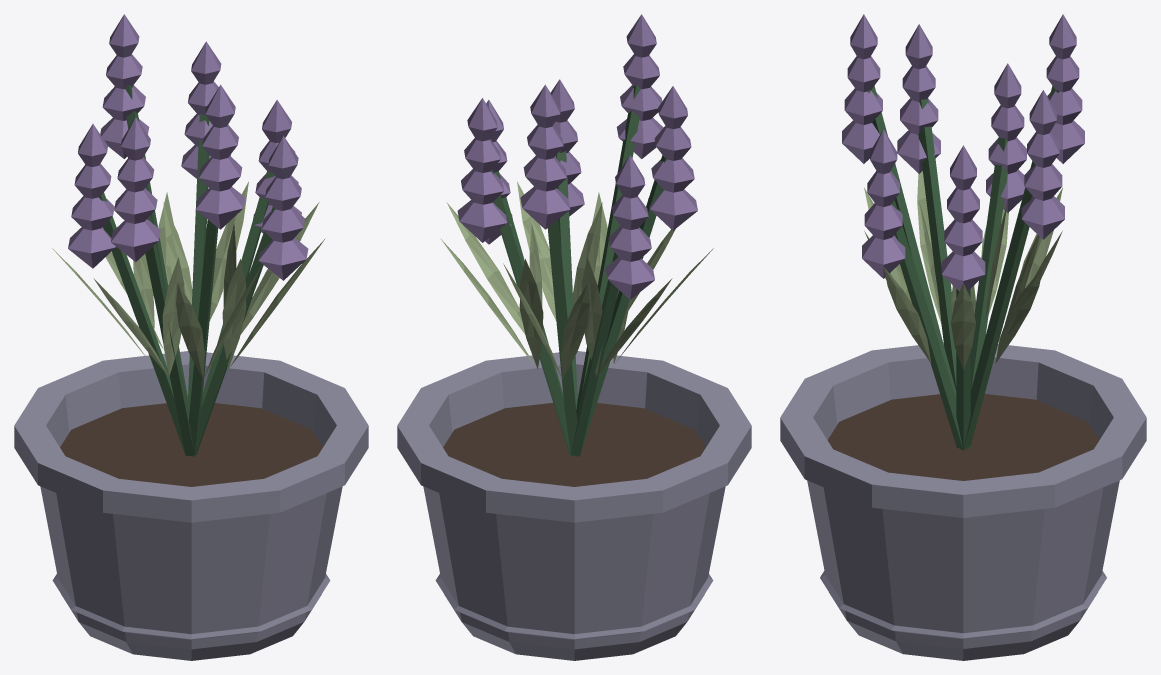
The model's file is decor_pot_lavender.glb.
3 renders of one model, left to right at view 1: azimuth 30°, elevation 25°; view 2: azimuth 150°, elevation 25°; view 3: azimuth 270°, elevation 25°, orthographic. The views are drawn at different scales.
Parts seen in each view (by area): view 1: geometry; view 2: geometry; view 3: geometry.
Boxes of the visible parts, left/top/right/bottom form: geometry: left=14, top=14, right=368, bottom=660; geometry: left=397, top=14, right=751, bottom=660; geometry: left=780, top=14, right=1146, bottom=660.
Bounding box in the file's own units: 0.4664 × 0.823 × 0.4664.
